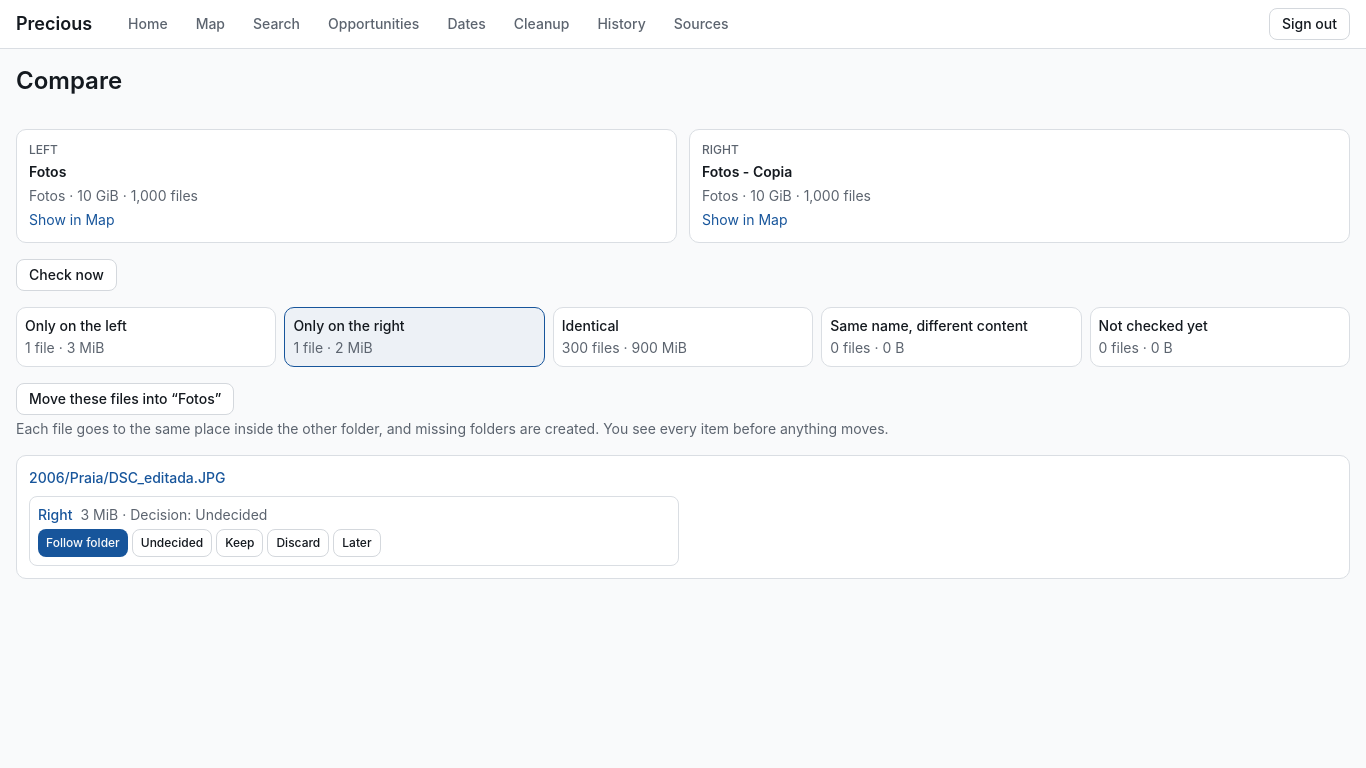
Test case: Moving the files only on one side in Compare › plans the merge, previews it, and runs it after Confirm
The image size is (1366, 768).
Click the button "Move these files into “Fotos”": (125, 399) [16,383,234,415]
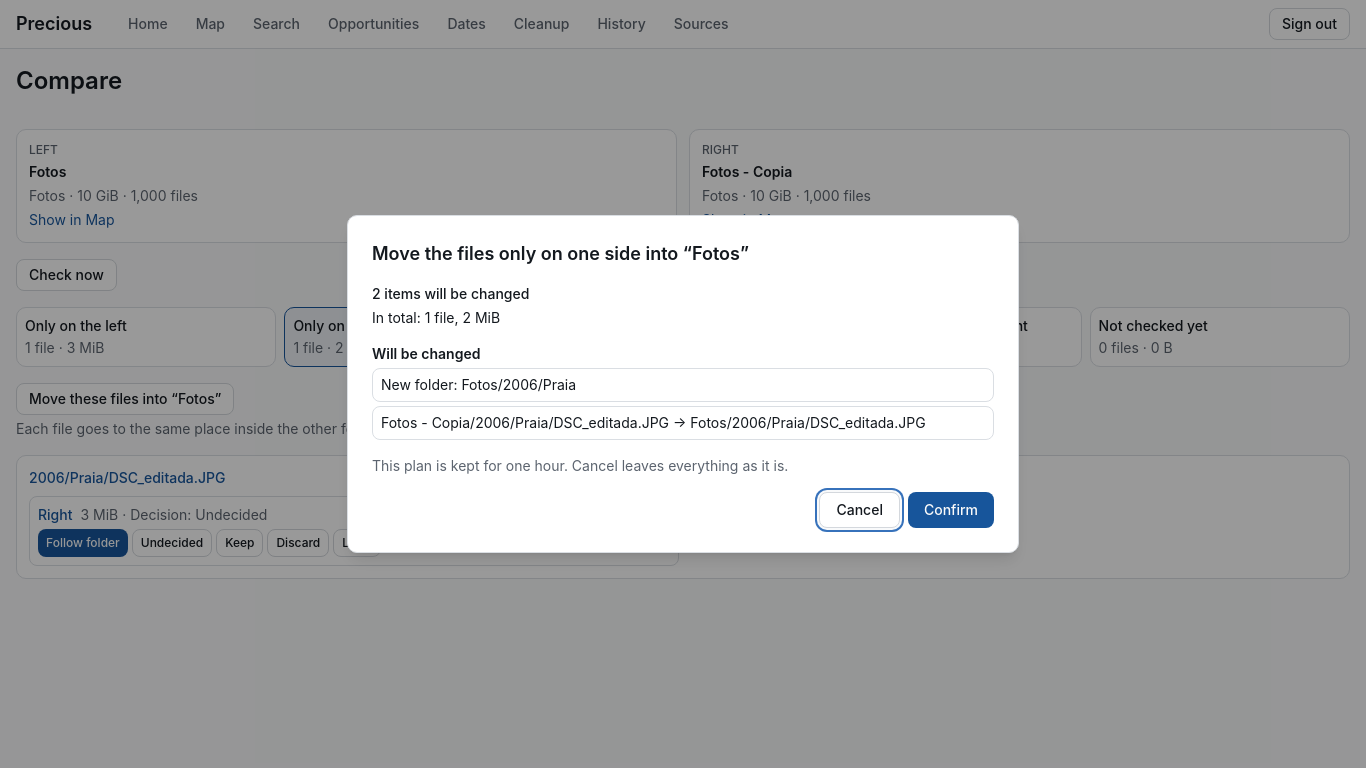
Check: the text "New folder: Fotos/2006/Praia" is shown, box [381,376,576,393]
Check: the text "Fotos - Copia/2006/Praia/DSC_editada.JPG → Fotos/2006/Praia/DSC_editada.JPG" is shown, box [381,413,985,433]
Click the button "Confirm": (951, 510) [908,492,994,528]
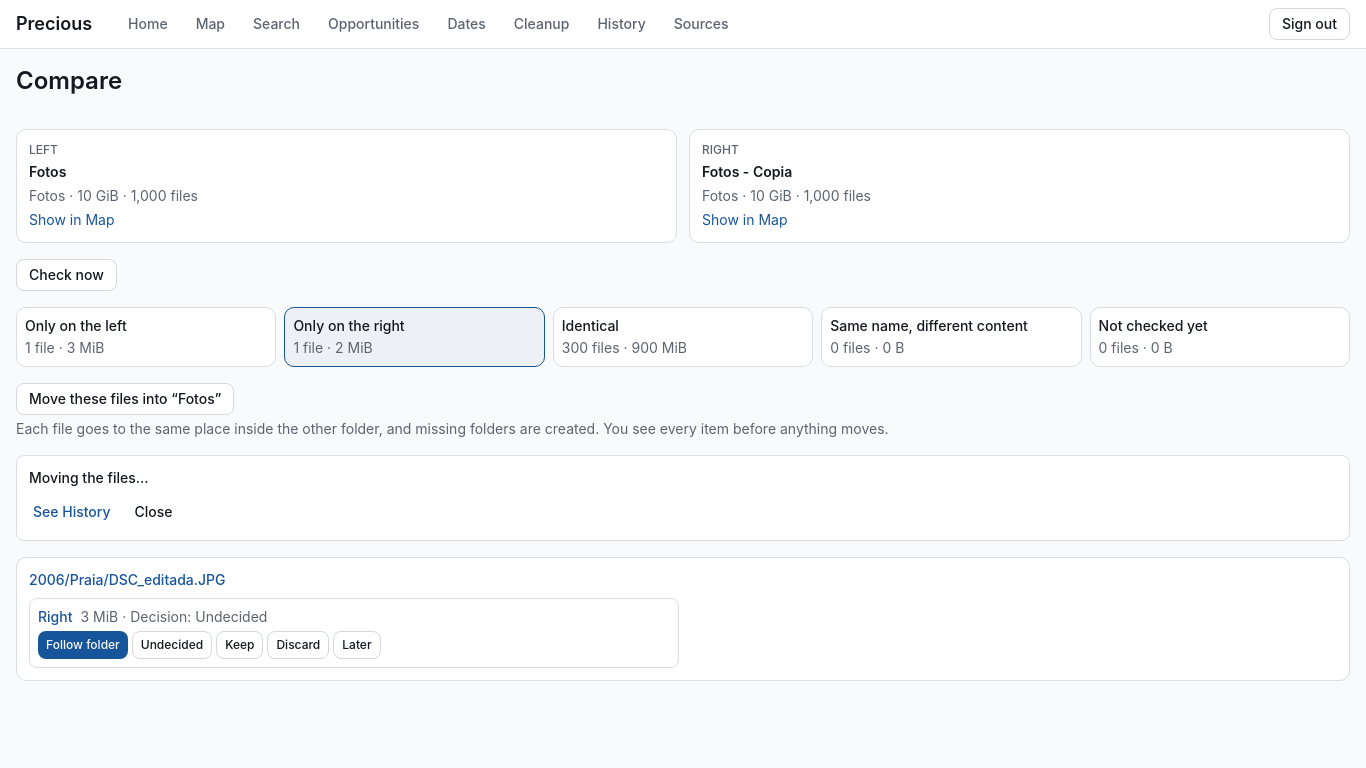
Check: the text "Moving the files…" is shown, box [29,469,148,486]
